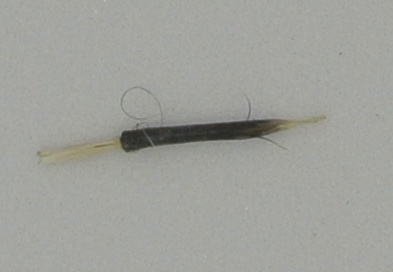เมล้ดปลายพู่กัน: (36, 87, 327, 164)
